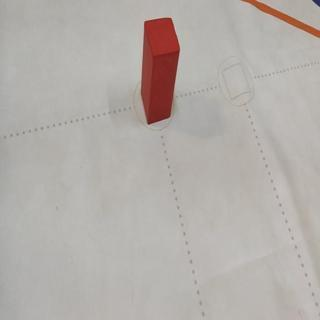redbox: (140, 17, 180, 124)
